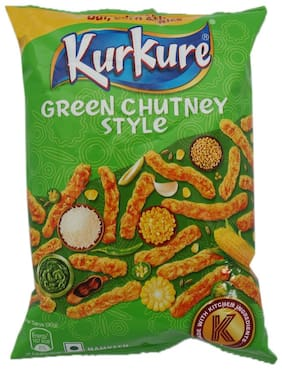kurkure: (43, 20, 245, 95)
plastic: (23, 11, 258, 336)
wrapper: (36, 110, 246, 335)
